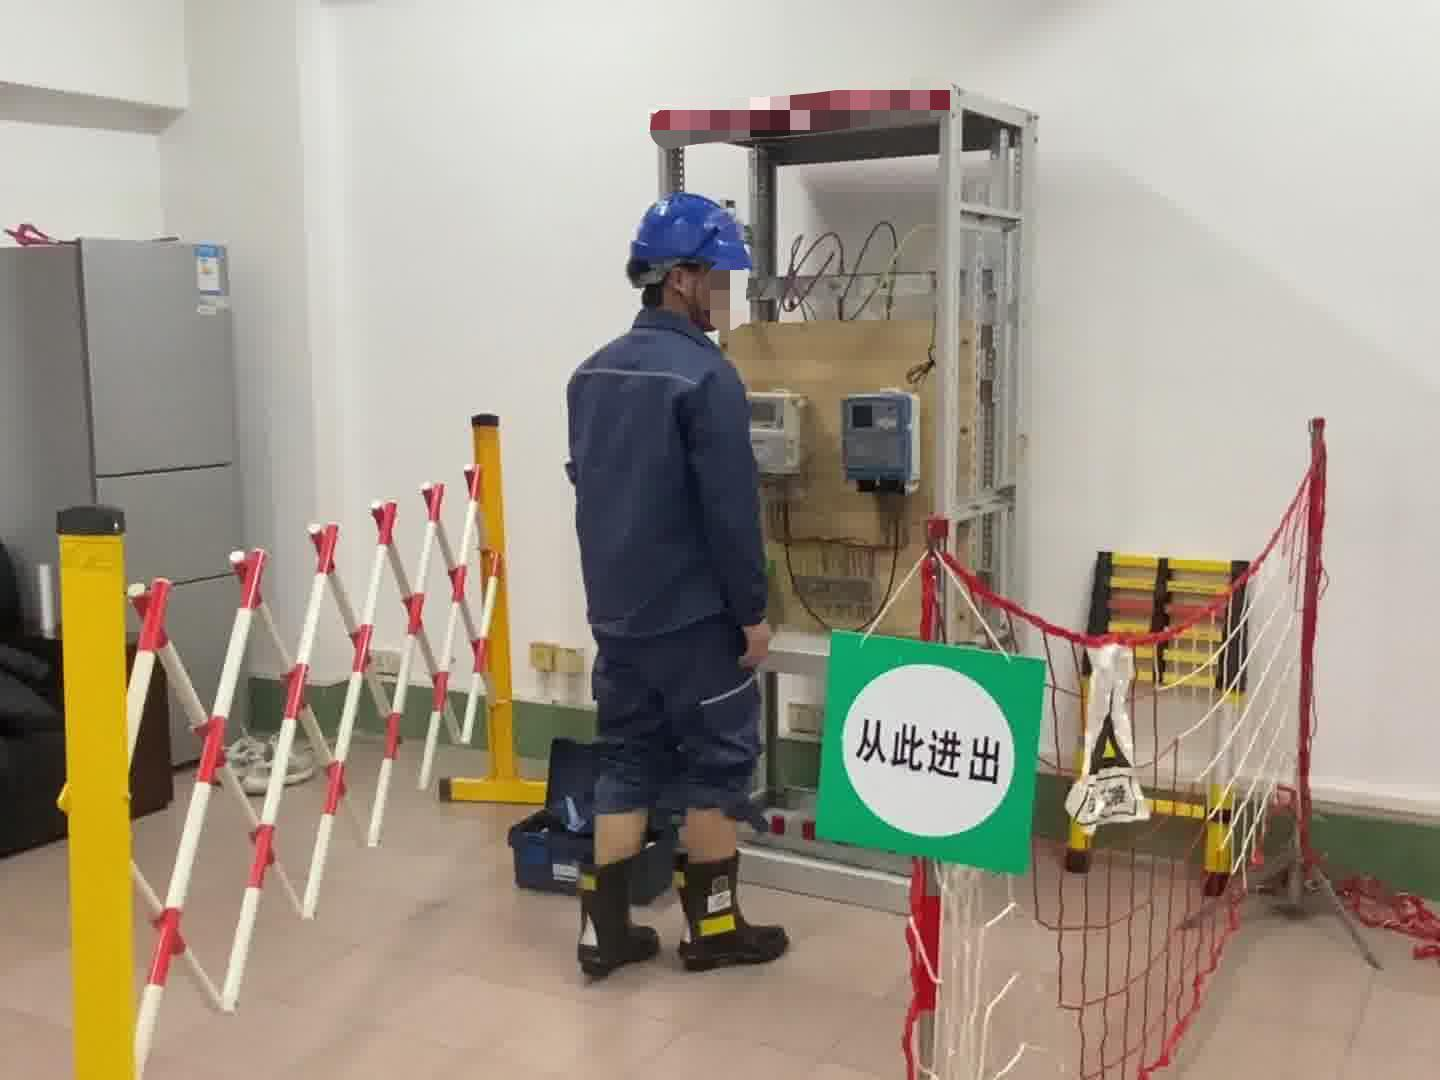halt: (628, 194, 757, 328)
inear: (662, 262, 711, 310)
